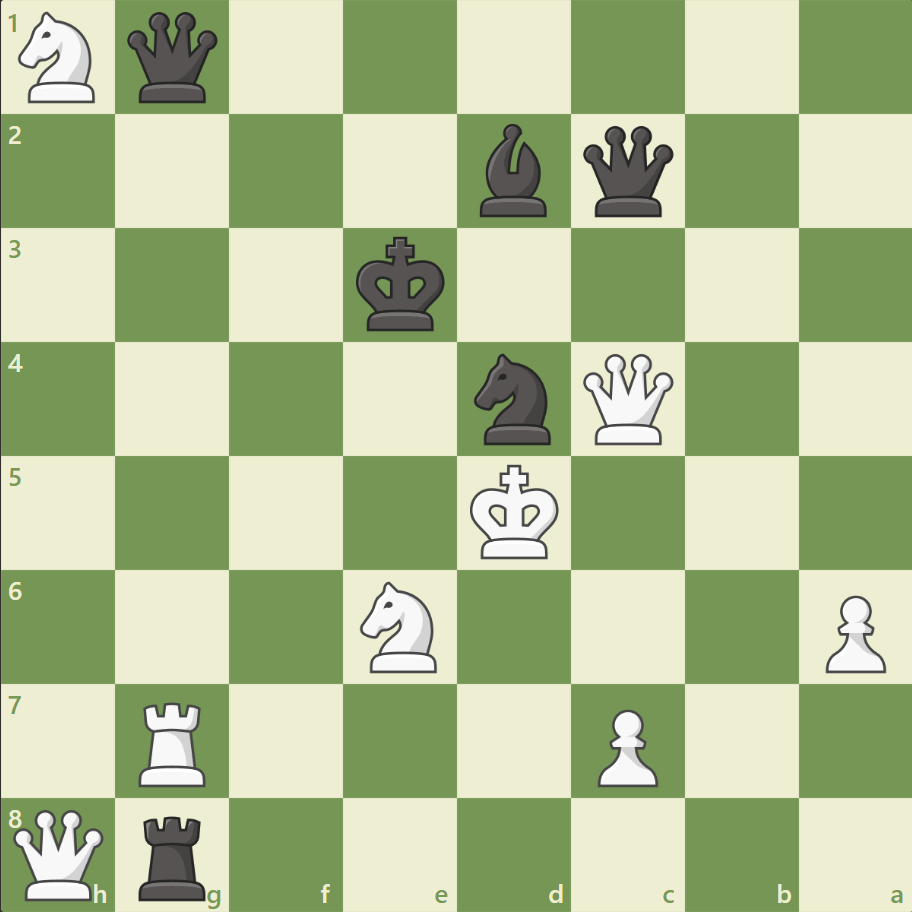K: (465, 458, 565, 566)
N: (351, 575, 449, 677), (11, 7, 108, 110)
P: (588, 700, 662, 791), (815, 586, 889, 677)
Q: (578, 349, 677, 449), (10, 804, 109, 903)
R: (133, 693, 215, 790)
b: (471, 120, 555, 222)
k: (351, 231, 451, 339)
n: (465, 348, 562, 450)
q: (578, 122, 677, 222), (124, 9, 223, 108)
r: (133, 806, 215, 904)
